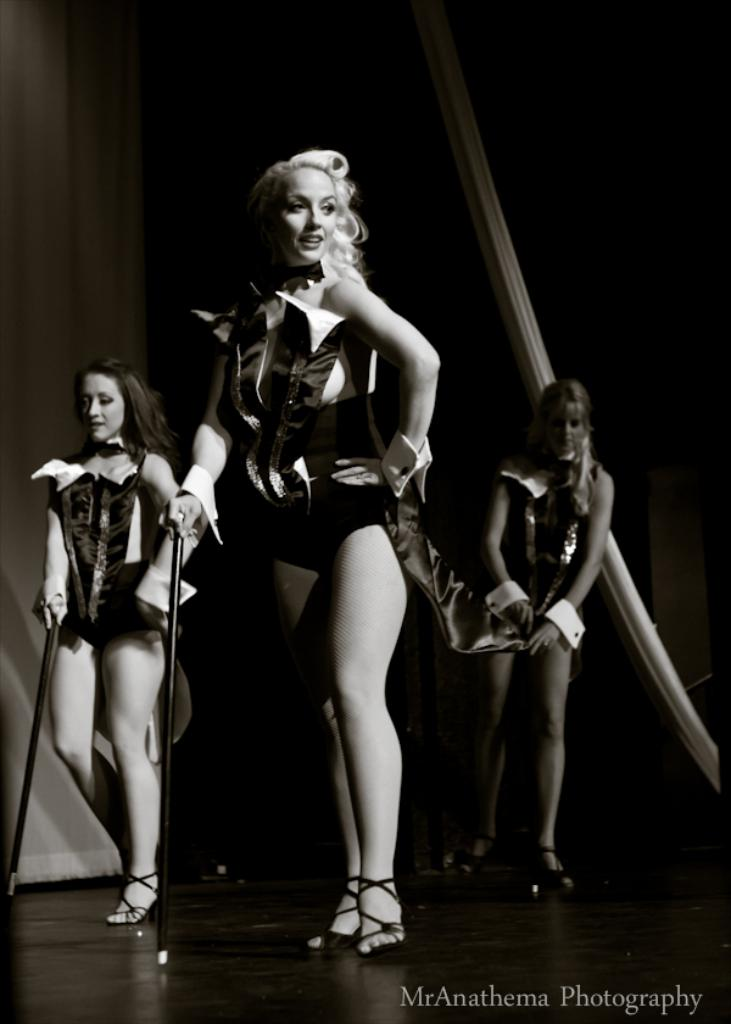Person: (159, 149, 442, 958)
